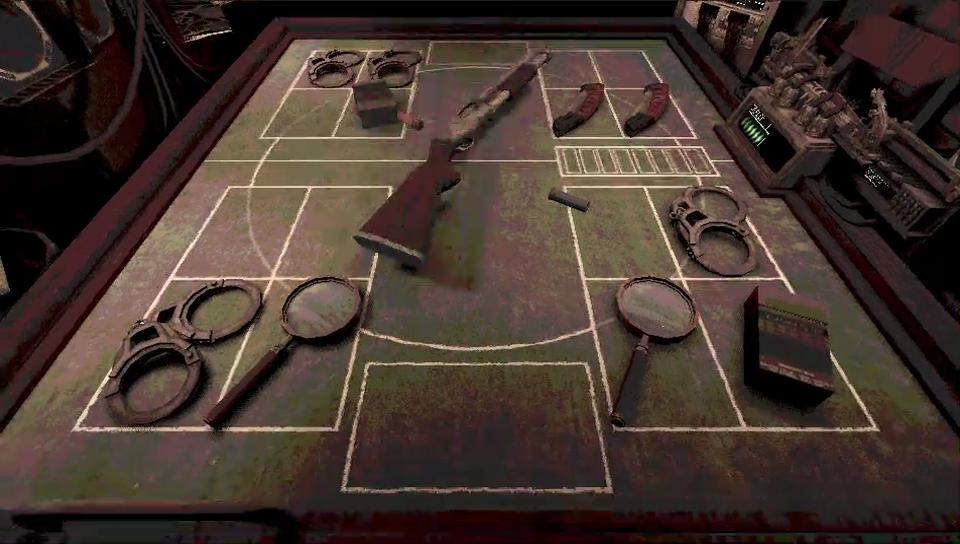ally: (0, 156, 959, 514)
cigar: (743, 286, 835, 405), (352, 81, 402, 128)
doubledamage: (553, 84, 603, 136), (621, 82, 668, 136)
emptyspace: (176, 188, 308, 277), (563, 186, 680, 276), (272, 186, 385, 275), (590, 50, 654, 89), (540, 51, 599, 88)
enemyspace: (215, 35, 733, 158)
gun: (352, 51, 547, 269)
handcuff: (107, 278, 262, 425), (669, 186, 754, 276), (309, 49, 364, 87), (371, 50, 422, 87)
lens: (204, 276, 363, 428), (610, 278, 697, 427), (261, 87, 351, 137)
